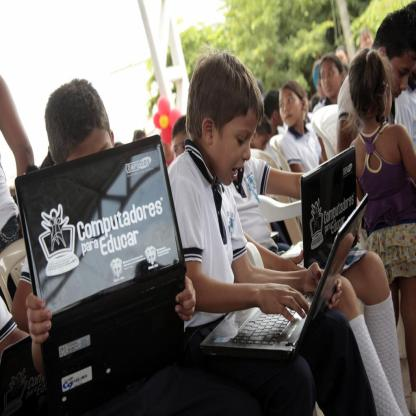board: (14, 132, 185, 416), (201, 192, 370, 362), (281, 145, 357, 270), (0, 335, 47, 416)
